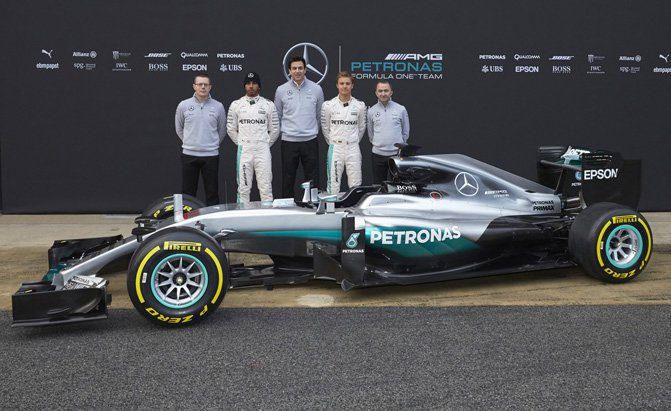f1_car: (6, 139, 659, 338)
